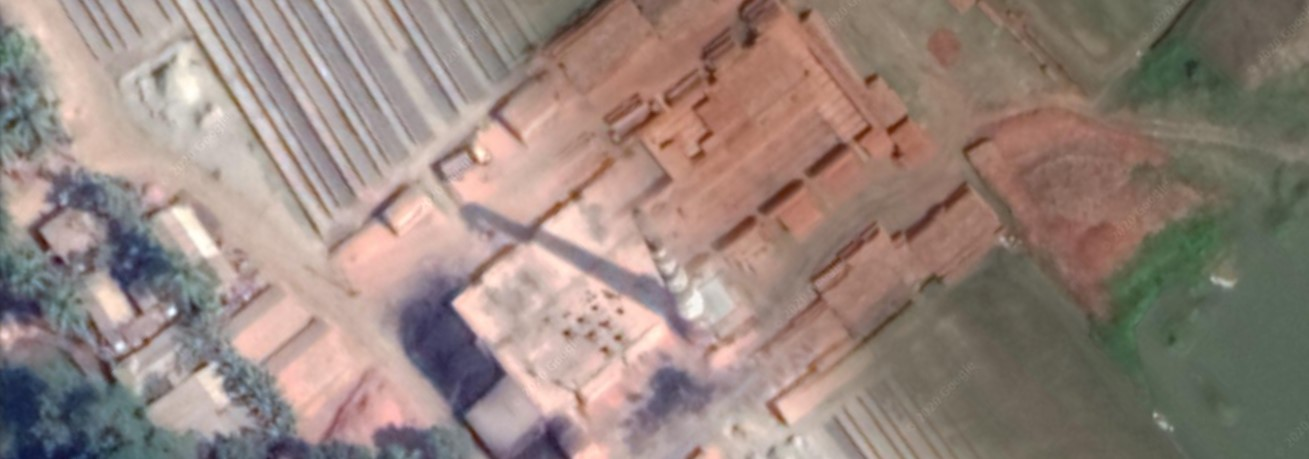kiln: (453, 115, 891, 379)
